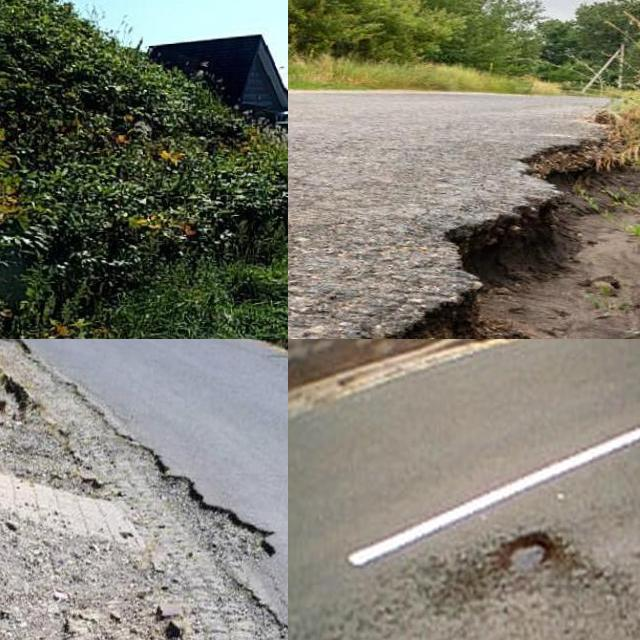Lubang: (500, 536, 560, 572)
Pinggir: (0, 339, 288, 640), (360, 119, 640, 339)
